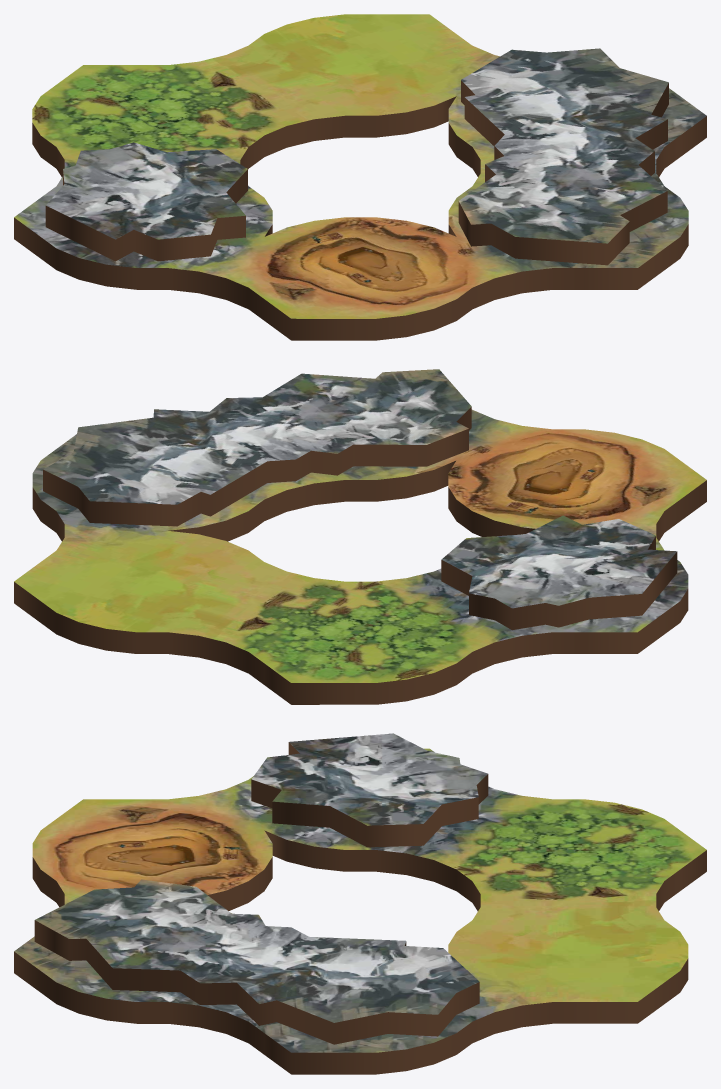
3 views of the same model, one above another, from view 1: azimuth 30°, elevation 25°; view 2: azimuth 150°, elevation 25°; view 3: azimuth 270°, elevation 25° (orthographic).
Parts seen in each view (by area): view 1: Cm.002; view 2: Cm.002; view 3: Cm.002.
Part boxes in pixels (box(x1,y1,x2,y2)): Cm.002: box(14, 14, 706, 340); Cm.002: box(14, 369, 706, 704); Cm.002: box(14, 733, 706, 1074).
Size of the model in its own units: 3 by 0.2001 by 2.89.
Materials: 2 (1 with a texture image).
